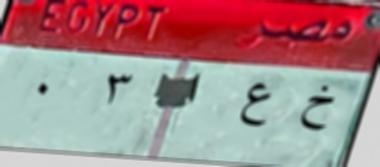0: (32, 75, 55, 104)
3: (102, 69, 134, 111)
ain: (238, 78, 280, 137)
alif: (188, 65, 205, 110)
khaa: (295, 80, 336, 140)
